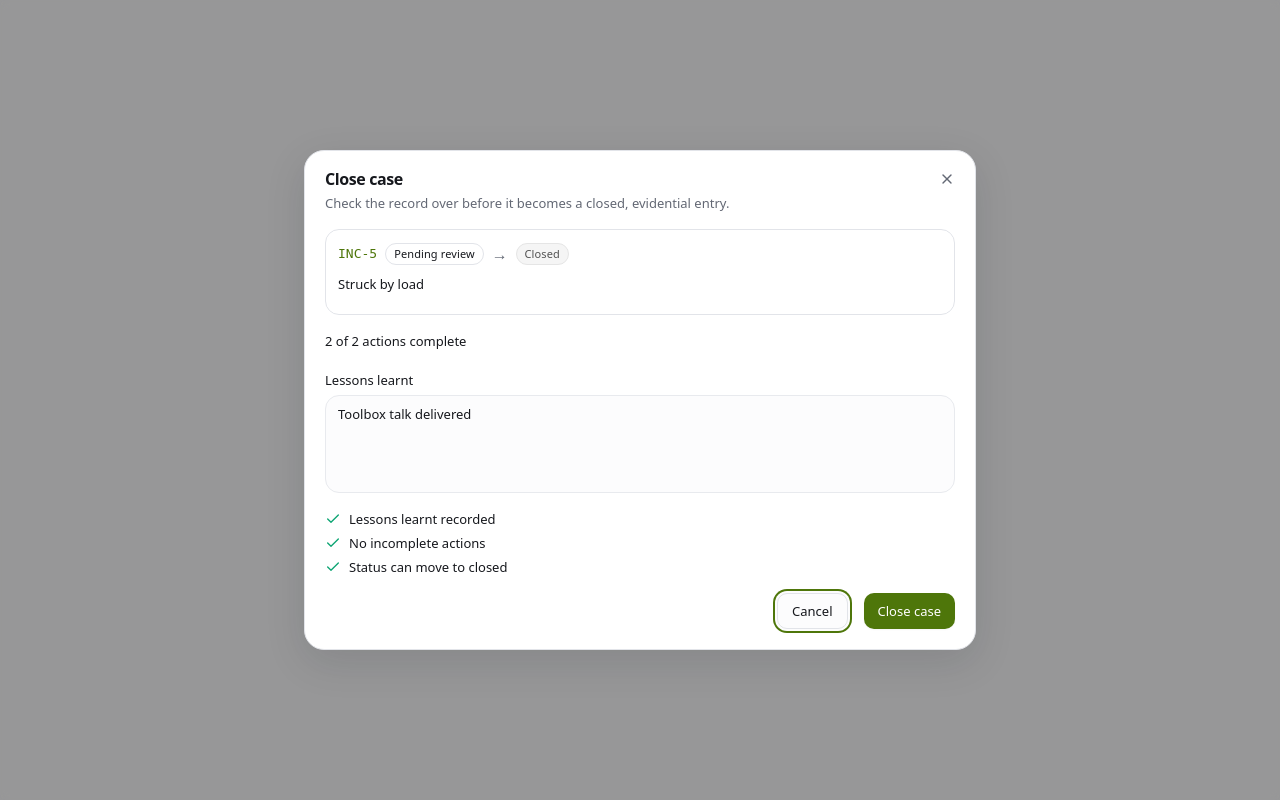
Test: CaseCloseSummaryDialog › stays open and re-reads readiness when the API refuses the close
Click the button with test id "incident-close-summary-confirm". click: [909, 611]
box: [864,593,955,629]
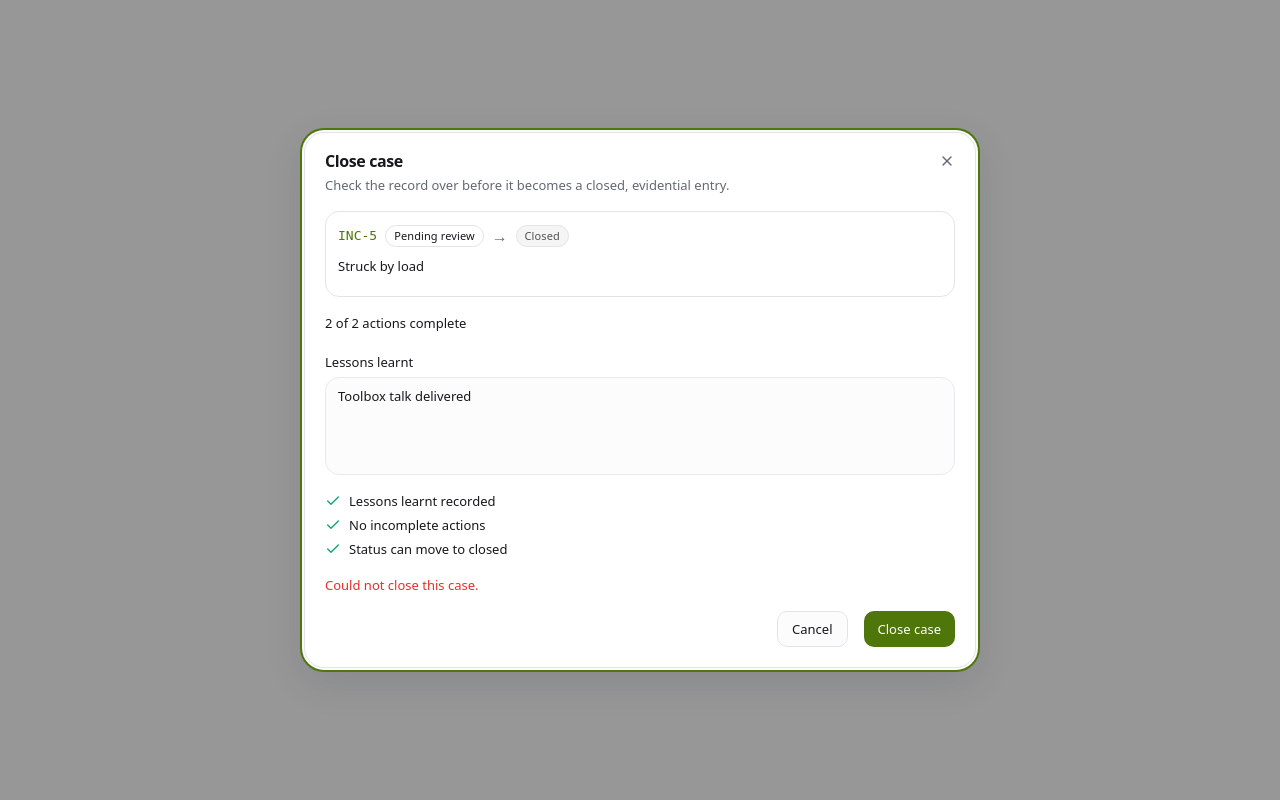
Expected: the message "Could not close this case." is shown, [325,576,478,594]
